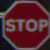Stop: (2, 2, 47, 49)
